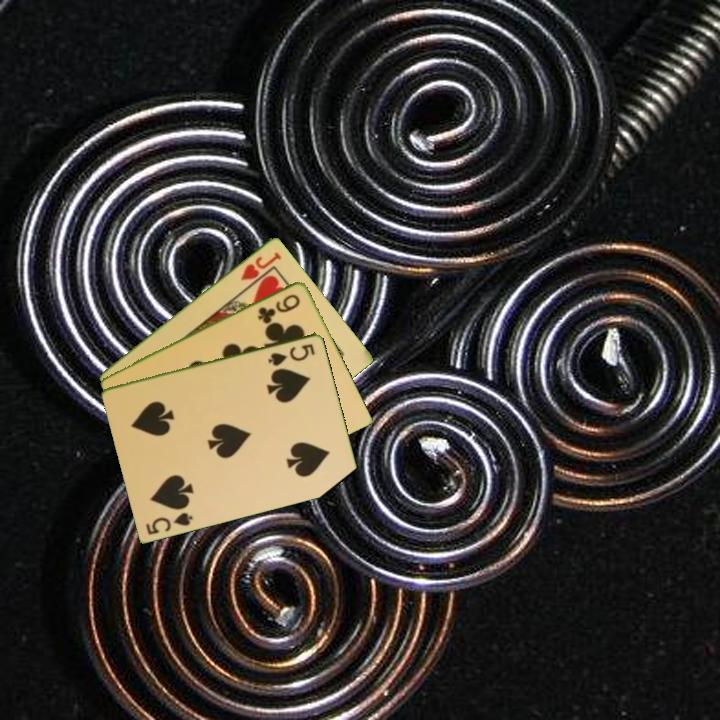5s: (264, 340, 318, 369), (142, 508, 196, 537)
9c: (254, 290, 303, 325)
Jh: (237, 248, 284, 283)
